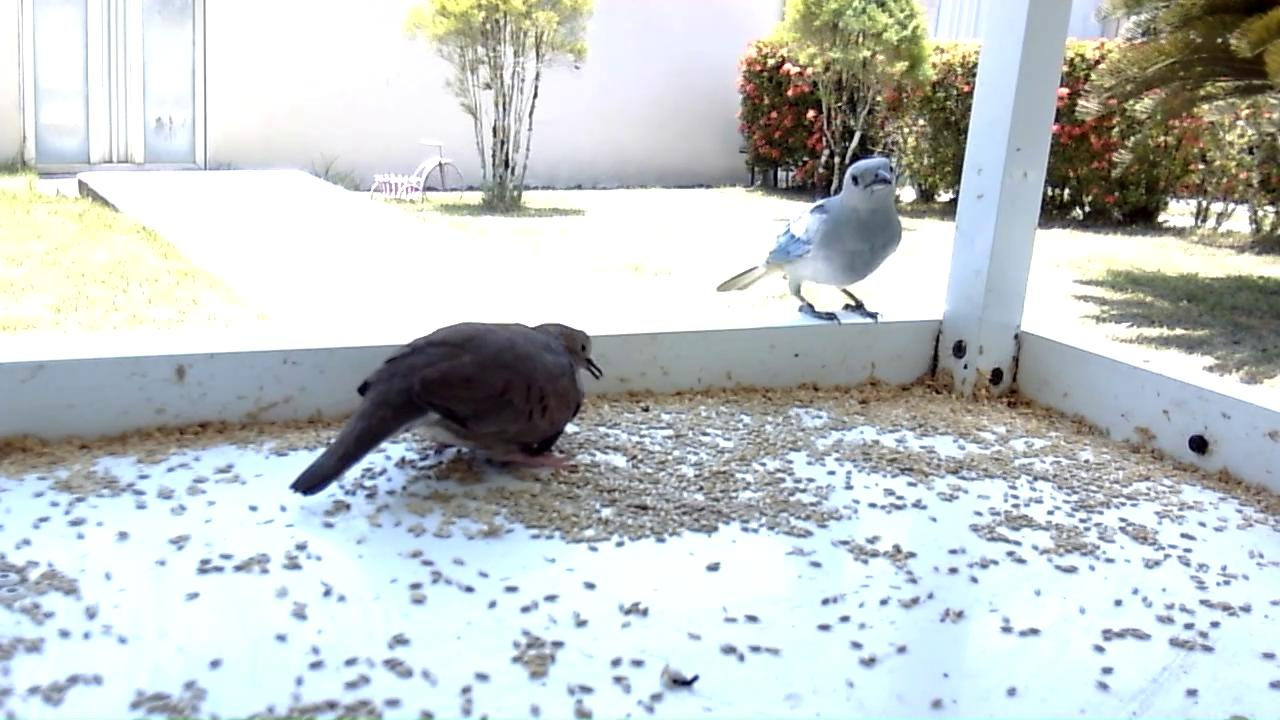rolinha: (289, 315, 605, 499)
sanhaco_da_amazonia: (716, 155, 905, 328)
